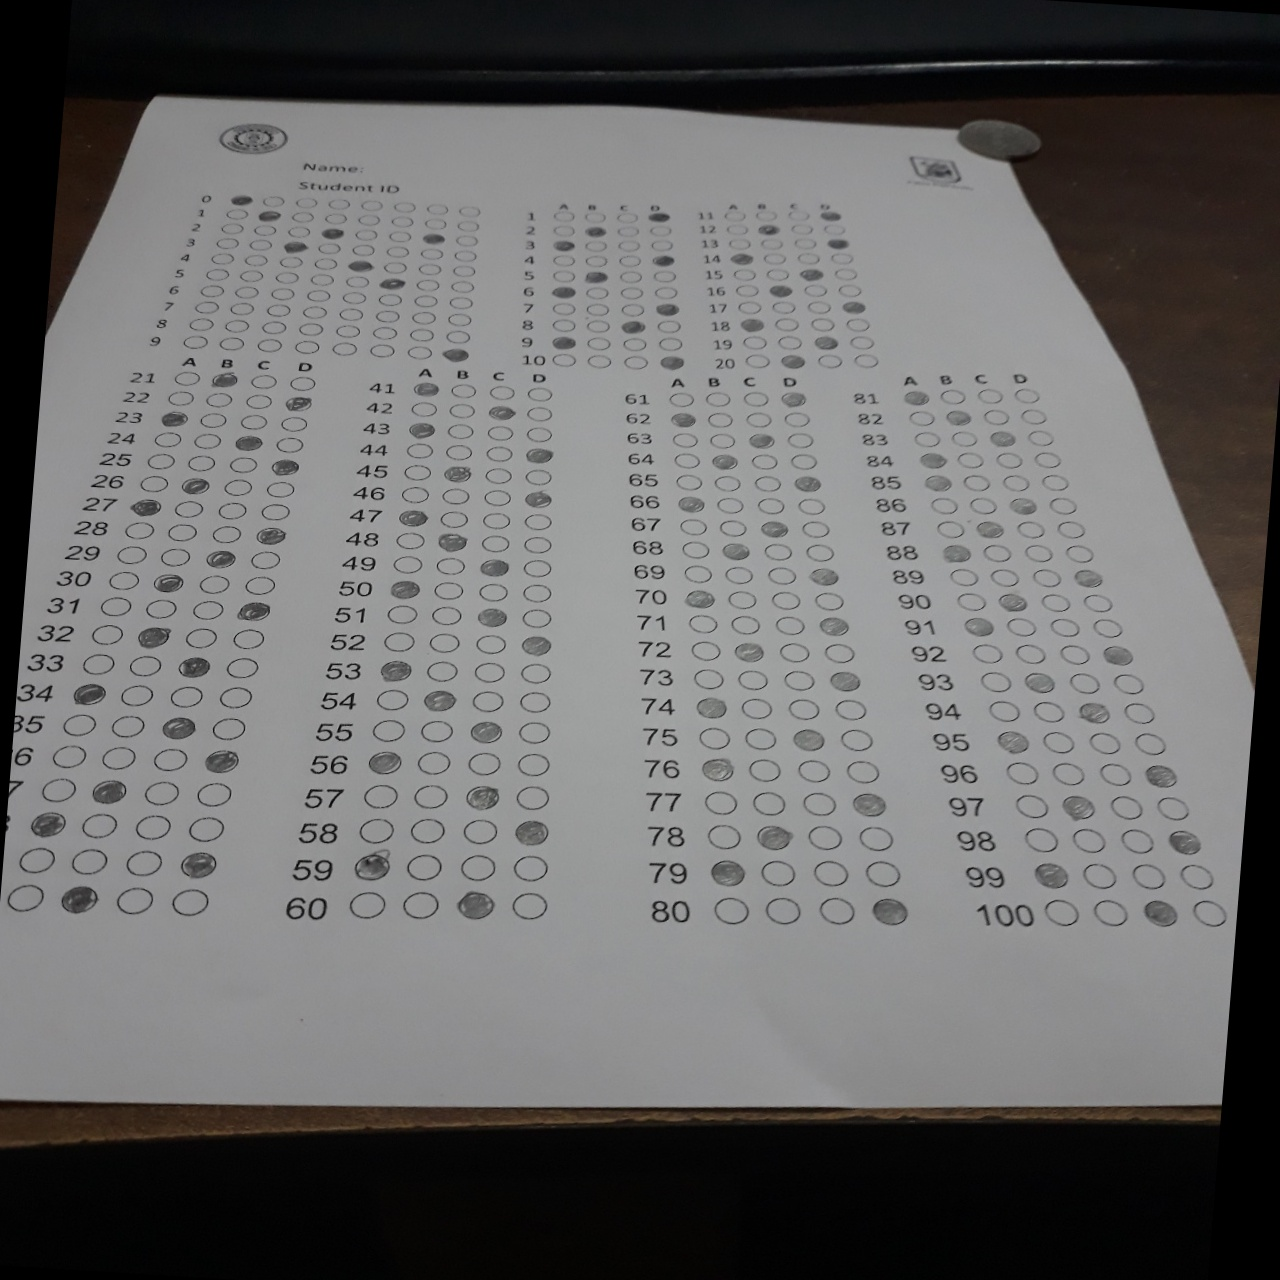not-c: (123, 847, 165, 879), (132, 809, 173, 840), (79, 810, 120, 842), (505, 890, 546, 921), (38, 775, 80, 805), (458, 815, 501, 845), (185, 813, 226, 844), (48, 740, 89, 770), (16, 844, 57, 874), (111, 885, 152, 915), (4, 883, 45, 913), (349, 888, 390, 919), (399, 888, 440, 919), (456, 850, 497, 880), (406, 852, 447, 883), (407, 816, 448, 846), (355, 815, 396, 845), (358, 779, 399, 810), (410, 779, 451, 810), (462, 748, 503, 778), (511, 749, 552, 779), (510, 779, 551, 810), (512, 716, 553, 747), (416, 714, 457, 744), (368, 714, 409, 744), (370, 681, 411, 712), (467, 685, 508, 715), (509, 852, 549, 883), (68, 846, 109, 876), (169, 887, 210, 917), (415, 745, 456, 775), (702, 787, 741, 817), (857, 822, 896, 852), (1094, 758, 1132, 789), (862, 856, 901, 885), (703, 821, 741, 851), (1130, 729, 1167, 760), (513, 687, 552, 716), (515, 605, 553, 634), (810, 858, 849, 887), (712, 896, 750, 925), (1041, 897, 1080, 926), (1092, 899, 1131, 928), (1190, 897, 1228, 926), (1177, 862, 1216, 891), (1070, 825, 1109, 855), (1048, 760, 1087, 789), (1085, 727, 1124, 756), (1040, 726, 1078, 755), (805, 822, 843, 851), (1081, 862, 1118, 891), (1117, 825, 1155, 855), (1005, 757, 1042, 787), (516, 658, 554, 686), (422, 629, 461, 658), (1109, 794, 1148, 822), (760, 858, 796, 887), (1023, 824, 1060, 853), (1016, 790, 1053, 819), (1131, 860, 1169, 888), (1152, 794, 1190, 822), (470, 656, 509, 683), (421, 659, 459, 686), (377, 628, 416, 655), (818, 896, 855, 924), (764, 894, 801, 922), (141, 779, 178, 806), (471, 627, 509, 654), (166, 685, 205, 710), (151, 745, 188, 772), (197, 781, 234, 806), (801, 790, 836, 817), (750, 789, 785, 816), (101, 745, 137, 771), (217, 683, 253, 708), (60, 710, 96, 735), (836, 728, 872, 753), (211, 715, 248, 738), (742, 726, 777, 750), (844, 760, 880, 783), (128, 652, 162, 676), (428, 578, 465, 600), (428, 605, 465, 627), (517, 556, 554, 578), (436, 484, 474, 506), (481, 463, 518, 485), (81, 652, 116, 675), (89, 622, 124, 646), (785, 696, 821, 720), (697, 726, 733, 749), (738, 697, 774, 721), (745, 758, 781, 782), (796, 760, 831, 783), (954, 445, 989, 469), (388, 553, 424, 576), (477, 531, 513, 553), (516, 510, 552, 532), (442, 440, 478, 462), (1081, 590, 1117, 612), (1055, 517, 1091, 539), (143, 595, 176, 620), (105, 570, 139, 593), (231, 626, 265, 649), (243, 572, 277, 595), (98, 594, 132, 618), (517, 581, 554, 602), (430, 554, 468, 576), (435, 506, 472, 527), (395, 485, 433, 506), (400, 440, 437, 461), (479, 441, 515, 463), (781, 669, 816, 692), (833, 697, 869, 720), (986, 700, 1021, 722), (1111, 672, 1146, 694), (954, 591, 989, 613), (946, 565, 981, 587), (1020, 543, 1055, 565), (933, 518, 968, 540), (996, 472, 1032, 495), (990, 450, 1026, 472), (1032, 448, 1067, 470), (190, 597, 223, 620), (197, 572, 230, 595), (226, 655, 259, 679), (182, 452, 218, 474), (475, 581, 511, 602), (382, 602, 418, 624), (477, 509, 513, 530), (518, 535, 554, 556), (481, 486, 517, 508), (1068, 670, 1104, 692), (182, 627, 216, 649), (111, 715, 145, 737), (120, 683, 154, 706), (1030, 700, 1064, 722), (1037, 591, 1071, 613), (981, 542, 1015, 564), (965, 496, 999, 518), (1037, 470, 1071, 492), (397, 463, 433, 484), (978, 670, 1013, 692), (1012, 644, 1047, 665), (1048, 617, 1083, 638), (1014, 519, 1049, 540), (164, 520, 200, 540), (520, 467, 557, 486), (728, 615, 762, 636), (1121, 701, 1155, 722), (971, 642, 1005, 663), (1058, 644, 1092, 665), (1091, 617, 1125, 638), (988, 567, 1022, 588), (1032, 567, 1065, 588), (1064, 544, 1098, 565), (961, 470, 995, 491), (1044, 496, 1078, 517), (928, 493, 962, 515), (150, 429, 185, 449), (209, 523, 244, 543), (1003, 617, 1039, 636), (712, 472, 744, 493), (712, 493, 744, 515), (724, 564, 757, 585), (760, 540, 792, 561), (813, 588, 846, 610), (727, 588, 760, 610), (692, 668, 724, 689), (822, 642, 855, 663), (196, 409, 230, 429), (227, 454, 261, 474), (138, 474, 172, 493), (121, 519, 155, 539), (520, 424, 554, 444), (670, 471, 704, 491), (750, 474, 784, 493), (754, 496, 788, 516), (679, 563, 713, 583), (765, 565, 799, 585), (716, 516, 748, 537), (804, 542, 836, 563), (690, 640, 722, 661), (738, 670, 770, 692), (779, 642, 811, 663), (190, 431, 225, 450), (142, 450, 177, 469), (260, 502, 295, 520), (171, 499, 206, 518), (158, 549, 193, 567), (113, 544, 148, 563), (669, 450, 702, 470), (795, 496, 828, 516), (679, 540, 712, 560), (769, 590, 802, 610), (687, 613, 720, 633), (222, 477, 256, 496), (263, 478, 297, 497), (215, 501, 248, 519), (248, 550, 282, 568), (798, 517, 830, 537), (678, 517, 710, 536), (704, 410, 736, 428), (981, 407, 1010, 425), (483, 423, 516, 440), (523, 384, 553, 402), (749, 452, 779, 470), (974, 387, 1002, 406), (940, 387, 968, 406), (948, 429, 976, 448), (293, 339, 320, 358), (665, 390, 695, 407), (445, 421, 474, 438), (1026, 428, 1054, 445), (1019, 406, 1047, 423), (1014, 386, 1042, 403), (911, 409, 939, 427), (409, 400, 438, 416), (445, 402, 475, 418), (448, 382, 477, 399), (523, 404, 552, 421), (741, 389, 770, 406), (708, 433, 737, 449), (669, 430, 699, 447), (408, 326, 435, 343), (703, 390, 731, 407), (744, 411, 772, 428), (787, 433, 815, 449), (914, 431, 942, 448), (486, 384, 516, 400), (782, 411, 811, 427), (788, 452, 817, 468), (168, 389, 195, 406), (290, 375, 316, 392), (280, 416, 307, 433), (275, 436, 302, 452), (239, 413, 266, 429), (308, 272, 336, 287), (407, 343, 433, 360), (331, 342, 356, 359), (248, 374, 274, 390), (256, 338, 282, 353), (315, 239, 342, 254), (325, 195, 352, 210), (322, 209, 349, 224), (290, 207, 316, 223), (248, 237, 275, 252), (237, 268, 264, 284), (229, 300, 256, 315), (192, 298, 219, 313), (173, 370, 200, 386), (205, 392, 232, 407), (411, 309, 436, 326), (343, 273, 372, 287), (847, 334, 873, 349), (795, 250, 821, 265), (273, 268, 299, 284), (350, 241, 376, 257), (285, 224, 311, 239), (260, 192, 286, 207), (233, 284, 259, 299), (199, 282, 225, 298), (245, 394, 271, 409), (338, 307, 365, 321), (312, 256, 339, 270), (354, 212, 381, 226), (217, 336, 244, 350), (188, 316, 215, 331), (837, 281, 862, 297), (855, 352, 879, 367), (817, 353, 842, 368), (811, 316, 836, 332), (760, 236, 784, 251), (771, 299, 796, 314), (775, 316, 799, 332), (745, 353, 770, 368), (726, 236, 750, 251), (787, 207, 812, 222), (765, 267, 791, 281), (776, 335, 802, 349), (652, 268, 678, 282), (305, 287, 331, 301), (277, 254, 302, 268), (354, 227, 380, 241), (359, 196, 384, 210), (293, 196, 319, 210), (252, 224, 278, 238), (243, 252, 268, 266), (225, 319, 251, 333), (183, 335, 209, 349), (203, 267, 229, 281), (207, 250, 233, 264), (215, 234, 240, 248), (218, 220, 244, 234), (223, 204, 248, 218), (845, 316, 870, 331), (808, 300, 832, 314), (803, 282, 828, 297), (794, 234, 818, 248), (754, 207, 778, 222), (762, 252, 787, 266), (737, 299, 762, 313), (735, 282, 760, 297), (731, 266, 756, 280), (584, 253, 608, 267), (451, 263, 476, 277), (415, 275, 440, 290), (425, 200, 450, 215), (383, 260, 408, 274), (374, 309, 399, 324), (369, 343, 394, 358), (266, 302, 291, 316), (411, 294, 437, 307), (341, 290, 367, 302), (742, 335, 765, 349), (416, 261, 440, 275), (789, 222, 813, 234), (649, 223, 674, 236), (622, 338, 647, 350), (621, 302, 646, 315), (619, 270, 644, 282), (619, 253, 644, 266), (617, 239, 641, 252), (617, 224, 641, 237), (551, 209, 576, 222), (550, 222, 574, 234), (584, 239, 608, 252), (585, 320, 610, 333), (552, 300, 577, 313), (553, 268, 578, 281), (456, 233, 481, 246), (454, 248, 478, 261), (449, 295, 474, 308), (421, 245, 445, 258), (394, 200, 418, 213), (384, 244, 409, 257), (377, 292, 402, 305), (298, 322, 322, 335), (270, 286, 294, 299), (822, 222, 845, 234), (833, 267, 857, 280), (723, 209, 747, 222), (649, 239, 673, 252), (655, 286, 679, 299), (658, 319, 681, 332), (658, 338, 681, 350), (620, 285, 644, 298), (615, 210, 639, 223), (583, 210, 606, 223), (586, 302, 610, 315), (586, 354, 610, 367), (458, 204, 482, 217), (552, 352, 576, 365), (552, 319, 576, 332), (450, 279, 474, 292), (445, 331, 469, 343), (390, 215, 414, 227), (388, 229, 411, 241), (263, 321, 286, 334), (335, 324, 359, 336), (624, 356, 648, 368), (585, 286, 610, 298), (585, 338, 610, 349), (448, 313, 472, 325), (423, 217, 448, 229), (831, 252, 855, 264), (724, 223, 748, 234), (553, 253, 577, 265), (457, 219, 481, 231), (372, 326, 395, 338), (302, 305, 326, 316)
taken-c: (708, 857, 748, 888), (869, 894, 908, 925), (57, 885, 98, 914), (28, 810, 70, 838), (176, 851, 219, 878), (455, 891, 495, 920), (350, 850, 392, 878), (1033, 860, 1070, 891), (511, 818, 551, 846), (1058, 791, 1096, 821), (1142, 897, 1178, 926), (1075, 699, 1112, 726), (467, 719, 505, 744), (1166, 826, 1201, 855), (461, 784, 501, 809), (852, 792, 888, 819), (755, 823, 791, 850), (363, 749, 402, 774), (995, 728, 1032, 754), (1019, 669, 1055, 695), (1101, 641, 1137, 667), (961, 614, 998, 640), (159, 714, 196, 740), (203, 747, 239, 772), (90, 779, 128, 804), (1143, 765, 1179, 790), (701, 756, 735, 782), (794, 728, 828, 751), (176, 655, 211, 678), (234, 601, 271, 622), (683, 587, 717, 610), (828, 669, 862, 692), (695, 696, 728, 719), (424, 689, 457, 712), (136, 626, 170, 647), (72, 683, 105, 704), (380, 659, 411, 681), (733, 641, 765, 662), (520, 445, 553, 467), (998, 591, 1029, 612), (1074, 567, 1105, 588), (973, 518, 1005, 539), (941, 542, 973, 563), (903, 387, 934, 408), (809, 566, 840, 587), (485, 403, 517, 424), (408, 418, 440, 440), (434, 532, 467, 552), (710, 452, 741, 474), (722, 540, 753, 561), (520, 488, 551, 509), (477, 606, 508, 627), (922, 471, 954, 491), (940, 408, 972, 428), (986, 429, 1017, 449), (674, 495, 706, 515), (819, 615, 851, 635), (399, 506, 430, 526), (919, 452, 949, 472), (779, 388, 810, 408), (667, 407, 697, 427), (749, 429, 779, 449), (410, 377, 441, 397), (444, 465, 475, 485), (479, 558, 510, 578), (388, 579, 418, 599), (519, 636, 550, 656), (205, 549, 236, 568), (154, 572, 184, 592), (760, 518, 791, 537), (130, 497, 159, 517), (256, 525, 285, 545), (1008, 496, 1039, 515), (792, 474, 822, 492), (282, 394, 312, 411), (211, 372, 240, 389), (234, 435, 264, 452), (181, 476, 209, 493), (159, 409, 189, 425), (271, 459, 300, 476), (651, 252, 678, 267), (738, 316, 765, 332), (779, 354, 806, 369), (813, 335, 840, 350), (443, 347, 469, 362), (551, 284, 577, 299), (621, 320, 647, 335), (659, 355, 685, 370), (840, 299, 866, 314), (583, 224, 610, 238), (583, 268, 610, 282), (797, 266, 824, 280), (280, 240, 309, 253), (418, 231, 448, 244), (227, 193, 256, 206), (254, 207, 282, 220), (347, 259, 375, 272), (551, 238, 577, 252), (653, 302, 679, 316), (649, 210, 675, 224), (728, 252, 754, 266), (552, 335, 577, 349), (769, 282, 794, 297), (755, 222, 781, 234), (828, 234, 851, 248), (377, 278, 406, 290), (316, 227, 343, 239), (819, 207, 842, 222)
